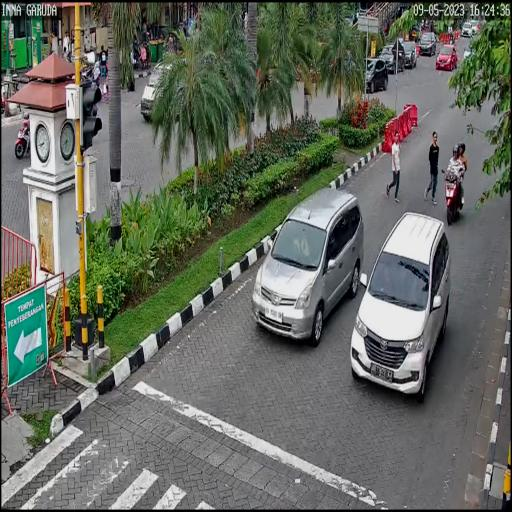mobil: (346, 210, 452, 400), (248, 186, 366, 344)
motor: (441, 159, 467, 229)
